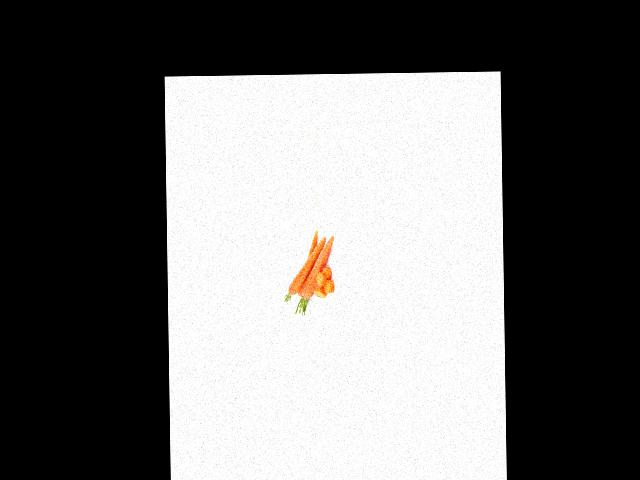carrot: (301, 235, 337, 302)
